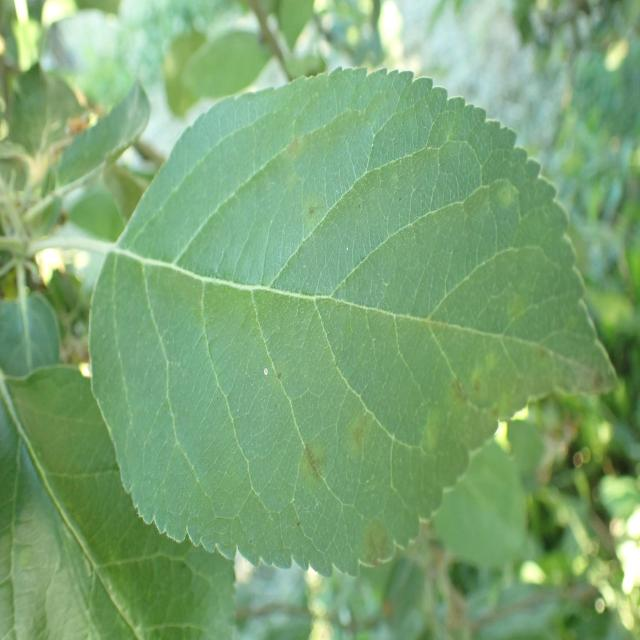scab: (166, 89, 599, 568)
